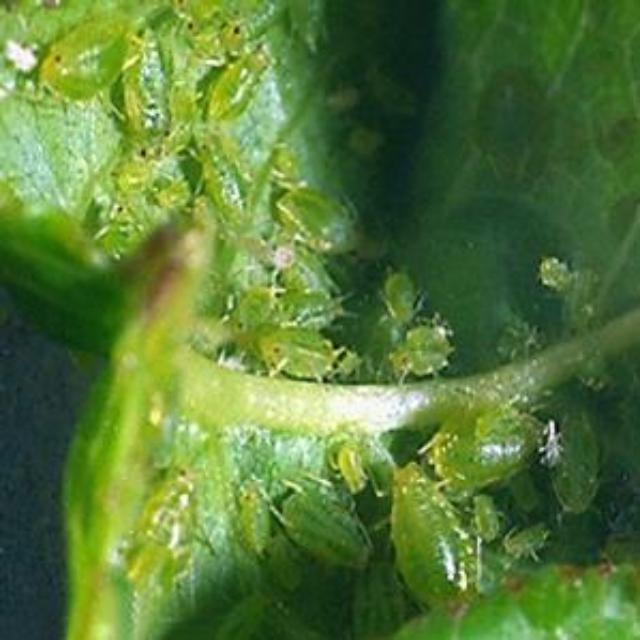Green peach aphid: (120, 434, 222, 620), (374, 468, 492, 624), (432, 385, 560, 501), (14, 3, 140, 115), (281, 478, 371, 590), (277, 178, 373, 272), (246, 316, 338, 388), (214, 36, 276, 142), (388, 320, 449, 380), (381, 276, 439, 338)
